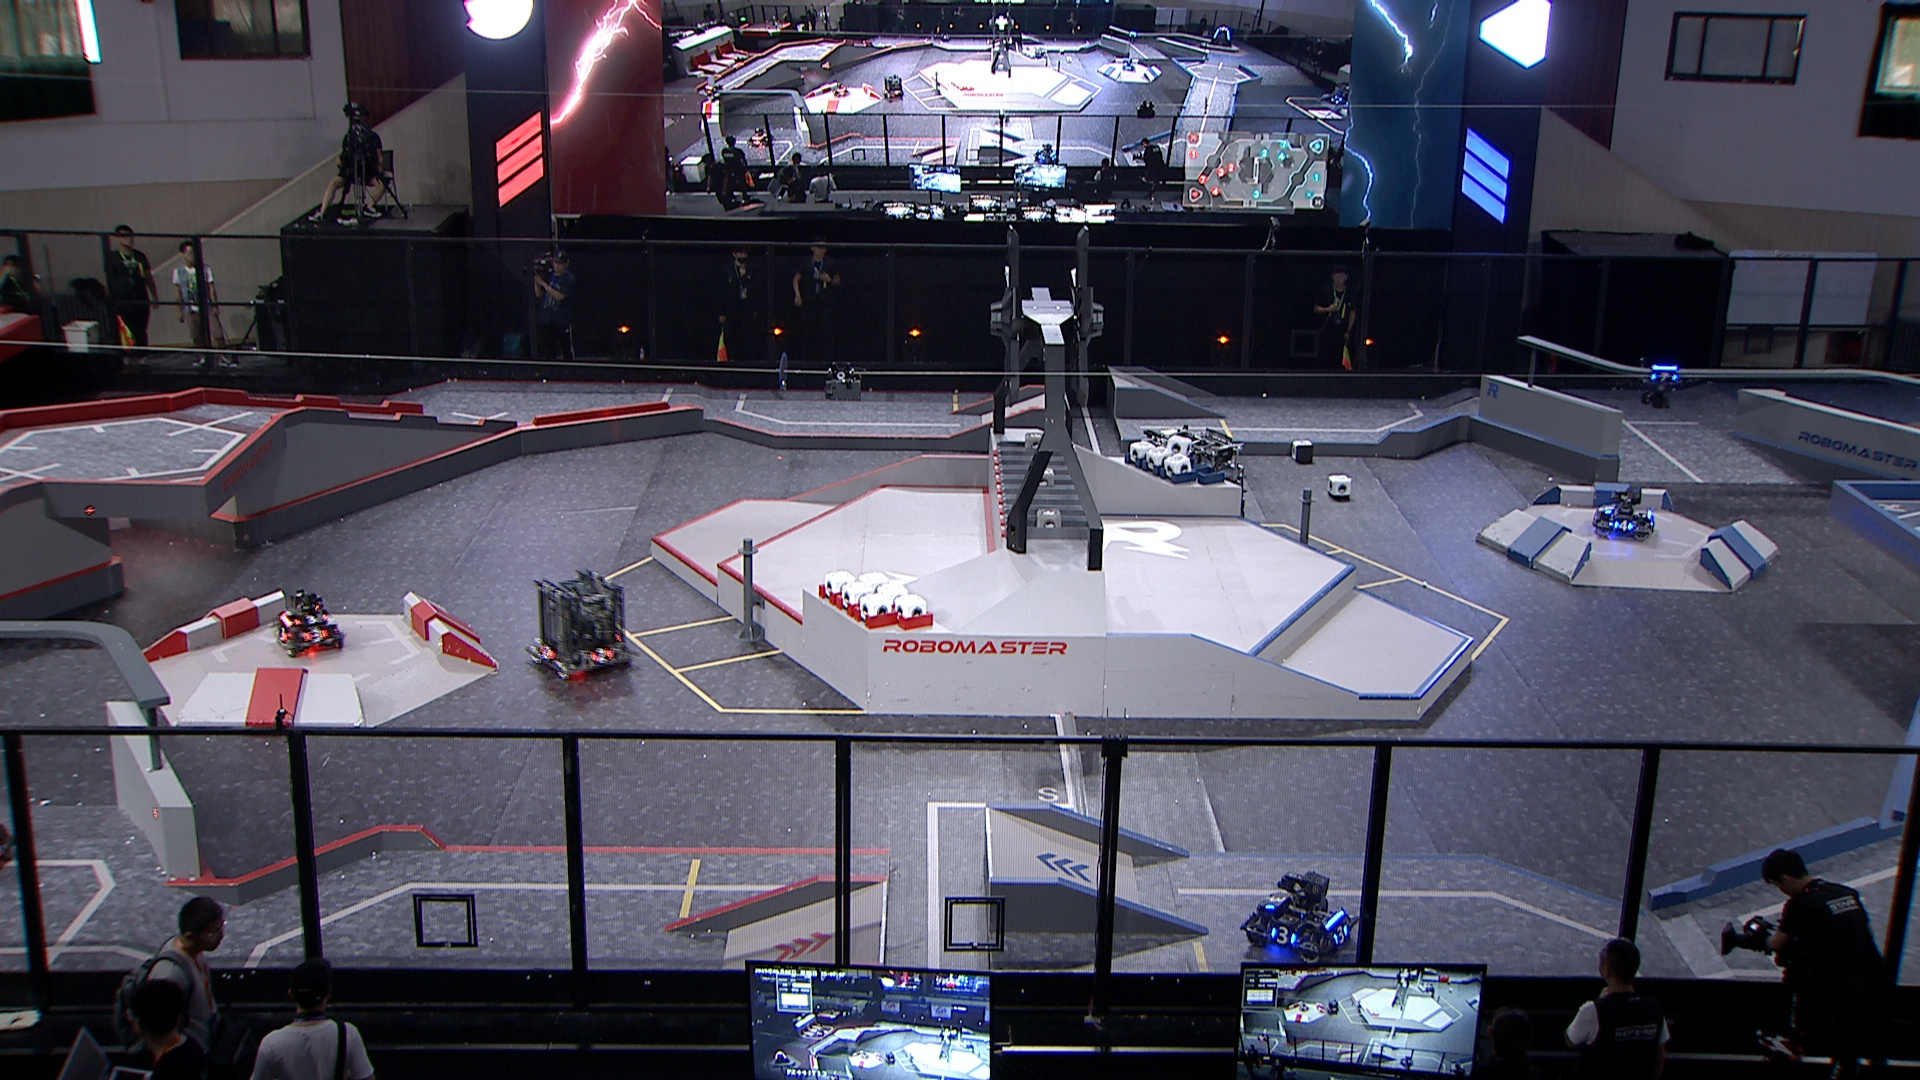armor: (1269, 926, 1299, 945), (585, 647, 615, 666), (1263, 891, 1286, 913), (294, 613, 328, 626), (1648, 371, 1679, 385), (1331, 922, 1349, 945), (302, 628, 328, 644), (538, 644, 556, 662), (1611, 518, 1634, 531), (276, 626, 291, 644)
car: (524, 566, 640, 683), (1238, 870, 1364, 967), (1138, 423, 1247, 527), (268, 589, 344, 657), (1592, 485, 1658, 543)
ignore: (1031, 142, 1060, 166), (882, 74, 906, 102), (1209, 25, 1236, 49), (745, 127, 774, 148), (1329, 86, 1352, 107), (829, 82, 851, 98), (1120, 57, 1135, 73)
watcher: (1638, 357, 1683, 407)
